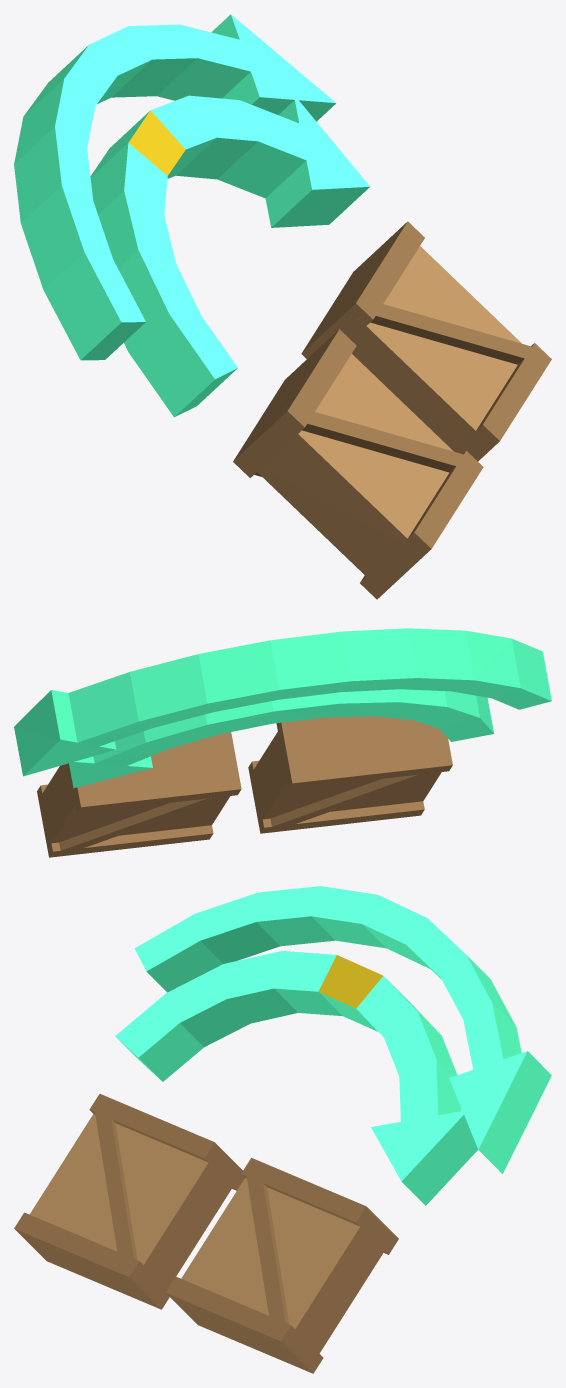
Rendered from advanced_material_transfer.glb.
3 renders of one model, top to bottom at view 1: azimuth 30°, elevation 25°; view 2: azimuth 150°, elevation 25°; view 3: azimuth 270°, elevation 25°, orthographic. The views are drawn at different scales.
Parts seen in each view (by area): view 1: advanced_material_transfer; view 2: advanced_material_transfer; view 3: advanced_material_transfer.
Part boxes in pixels (x1,y1,x2,y2): advanced_material_transfer: (14,14,551,599); advanced_material_transfer: (14,628,551,857); advanced_material_transfer: (14,886,551,1373).
Bounding box in the file's own units: 1.19 × 0.8316 × 1.25.
